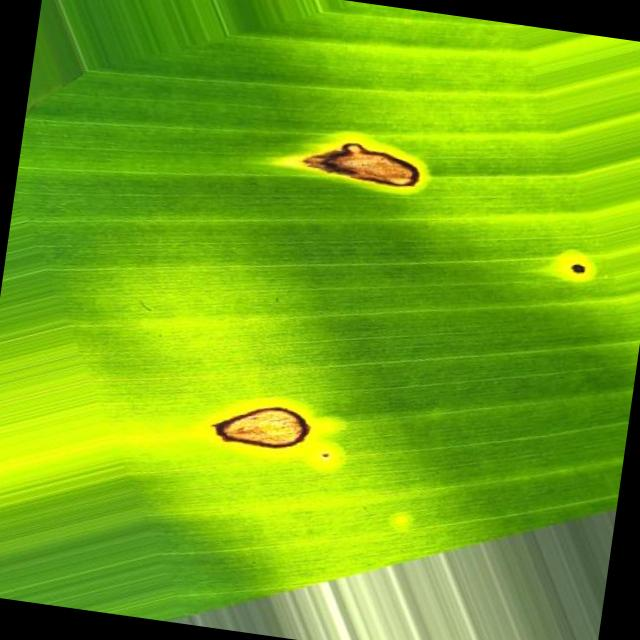Banana_Black_Sigatoka: (174, 347, 366, 532), (276, 95, 456, 232), (527, 229, 640, 327)
